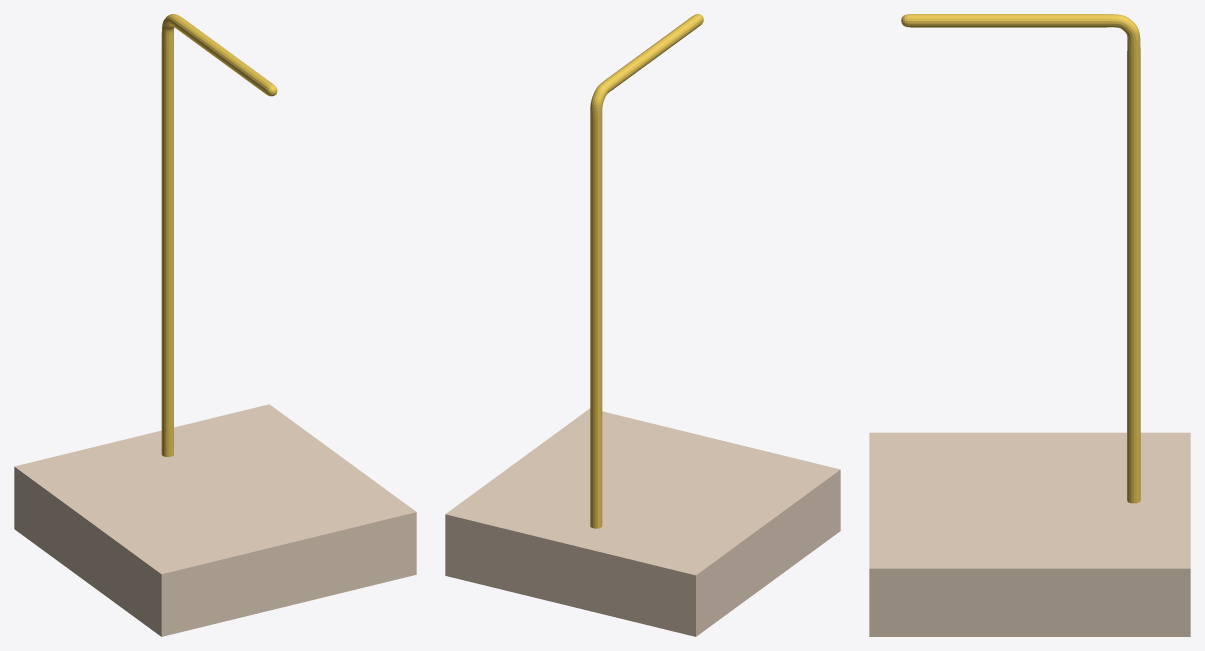
File: earring stand model.fbx
3 renders of one model, left to right at view 1: azimuth 30°, elevation 25°; view 2: azimuth 150°, elevation 25°; view 3: azimuth 270°, elevation 25°, orthographic. The views are drawn at different scales.
Visible parts, largest first — view 1: Cube.172, Plane.044; view 2: Cube.172, Plane.044; view 3: Cube.172, Plane.044.
Part boxes in pixels (x1=…): Cube.172: x1=14, y1=404, x2=416, y2=636; Plane.044: x1=161, y1=14, x2=277, y2=456; Cube.172: x1=445, y1=408, x2=840, y2=636; Plane.044: x1=590, y1=14, x2=703, y2=528; Cube.172: x1=869, y1=432, x2=1190, y2=636; Plane.044: x1=901, y1=14, x2=1140, y2=503.
Size of the model in its own units: 11 by 20.95 by 11.
